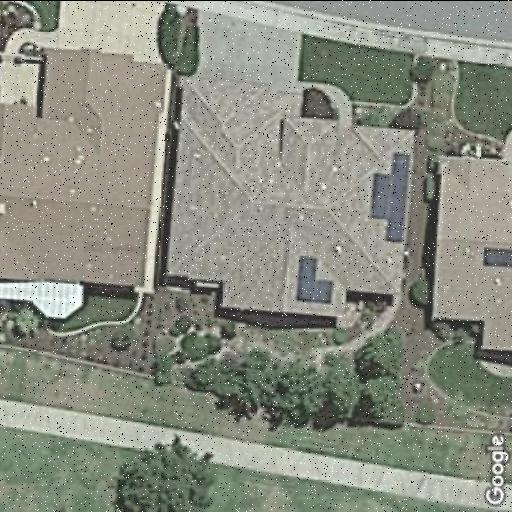solar-panel: (366, 148, 410, 246), (293, 253, 336, 307), (479, 242, 511, 270)
